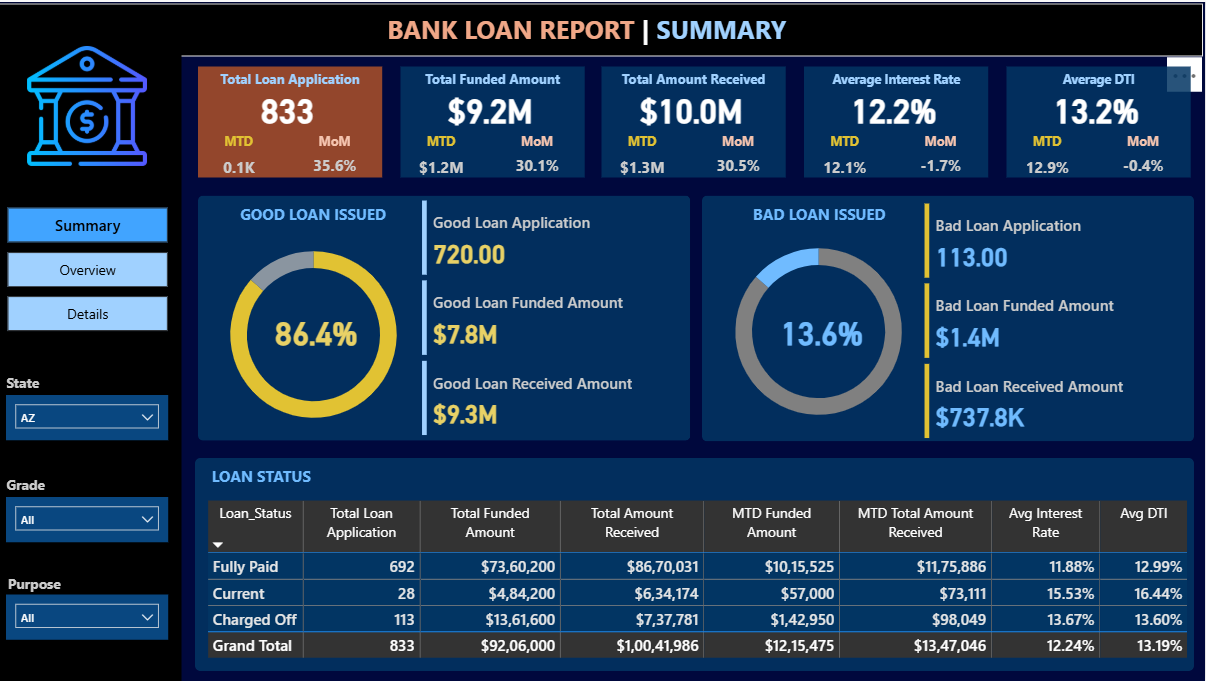

The dashboard page shown, as its layout file describes it:
{"tool":"powerbi","page":{"name":"Summary","canvas":[1280,720],"ordinal":0},"visuals":[{"type":"shape","box":[0,1.6,1278.9,55.7],"z":0},{"type":"shape","box":[3.2,53.5,192.5,666.5],"z":1000},{"type":"textbox","box":[408.8,4.8,454.9,50.9],"z":2000},{"type":"group","id":"g1","title":"Group 1","box":[210,66.2,198.8,130.4],"z":3000},{"type":"shape","box":[213.2,67.8,195.6,117.7],"z":3000,"group":"g1"},{"type":"shape","box":[427.9,67.8,195.6,117.7],"z":3000,"group":"g2"},{"type":"shape","box":[641,67.8,195.6,117.7],"z":3000,"group":"g3"},{"type":"shape","box":[855.8,67.8,195.6,117.7],"z":3000,"group":"g4"},{"type":"shape","box":[1070.5,67.8,195.6,117.7],"z":3000,"group":"g5"},{"type":"group","id":"g2","title":"Group 1","box":[424.7,66.2,197.2,130.4],"z":4000},{"type":"card","fields":{"Values":["bank_loan_data.Total Loan Application"]},"box":[210,74.2,195.6,74.8],"z":4000,"group":"g1"},{"type":"card","fields":{"Values":["bank_loan_data.Total Funded Amount"]},"box":[424.7,74.2,195.6,74.8],"z":4000,"group":"g2"},{"type":"card","fields":{"Values":["bank_loan_data.Total Amount Received"]},"box":[637.8,74.2,195.6,74.8],"z":4000,"group":"g3"},{"type":"card","fields":{"Values":["bank_loan_data.Avg Interest Rate"]},"box":[852.6,74.2,195.6,74.8],"z":4000,"group":"g4"},{"type":"card","fields":{"Values":["bank_loan_data.Avg DTI"]},"box":[1067.3,74.2,195.6,74.8],"z":4000,"group":"g5"},{"type":"textbox","box":[213.2,66.2,195.6,35],"z":5000,"group":"g1"},{"type":"textbox","box":[427.9,66.2,195.6,35],"z":5000,"group":"g2"},{"type":"textbox","box":[641,66.2,195.6,35],"z":5000,"group":"g3"},{"type":"textbox","box":[855.8,66.2,195.6,35],"z":5000,"group":"g4"},{"type":"textbox","box":[1070.5,66.2,195.6,35],"z":5000,"group":"g5"},{"type":"shape","box":[213.1,205.2,522,260],"z":5000},{"type":"card","title":"MTD","fields":{"Values":["bank_loan_data.MTD Loan Application"]},"box":[218,137.8,76.3,58.9],"z":6000,"group":"g1"},{"type":"card","title":"MTD","fields":{"Values":["bank_loan_data.MTD Funded Amount"]},"box":[432.7,137.8,76.3,58.9],"z":6000,"group":"g2"},{"type":"card","title":"MTD","fields":{"Values":["bank_loan_data.MTD Total Amount Recieved"]},"box":[645.8,137.8,76.3,58.9],"z":6000,"group":"g3"},{"type":"card","title":"MTD","fields":{"Values":["bank_loan_data.MTD Avg Int Rate"]},"box":[860.6,137.8,76.3,58.9],"z":6000,"group":"g4"},{"type":"card","title":"MTD","fields":{"Values":["bank_loan_data.MTD Avg DTI"]},"box":[1075.3,137.8,76.3,58.9],"z":6000,"group":"g5"},{"type":"card","fields":{"Values":["bank_loan_data.Good Loan"]},"box":[277.1,312,122.8,74.7],"z":6000},{"type":"card","title":"MoM","fields":{"Values":["bank_loan_data.MoM Loan Application"]},"box":[319.8,137.8,76.3,55.7],"z":7000,"group":"g1"},{"type":"card","title":"MoM","fields":{"Values":["bank_loan_data.MoM Total Funded Amount"]},"box":[534.5,137.8,76.3,55.7],"z":7000,"group":"g2"},{"type":"card","title":"MoM","fields":{"Values":["bank_loan_data.MoM Total Amount Recieved"]},"box":[747.6,137.8,76.3,55.7],"z":7000,"group":"g3"},{"type":"card","title":"MoM","fields":{"Values":["bank_loan_data.MoM Avg Int Rate"]},"box":[962.4,137.8,76.3,55.7],"z":7000,"group":"g4"},{"type":"card","title":"MoM","fields":{"Values":["bank_loan_data.MoM Avg DTI"]},"box":[1177.1,137.8,76.3,55.7],"z":7000,"group":"g5"},{"type":"textbox","box":[240,208.6,190,34.3],"z":7000},{"type":"group","id":"g3","title":"Group 1","box":[637.8,66.2,198.8,130.4],"z":8000},{"type":"group","id":"g4","title":"Group 1","box":[852.6,66.2,198.8,130.4],"z":9000},{"type":"group","id":"g5","title":"Group 1","box":[1067.3,66.2,197.2,130.4],"z":10000},{"type":"donutChart","fields":{"Category":["bank_loan_data.Good vs Bad Loan"],"Y":["bank_loan_data.Total Loan Application"]},"box":[210.8,237.3,250.6,230.7],"z":11000},{"type":"shape","box":[747.6,205.2,521.7,260.9],"z":12000},{"type":"cardVisual","fields":{"Data":["bank_loan_data.Good Loan Application","bank_loan_data.Good Loan Funded Amount","bank_loan_data.Good Loan Received Amount"]},"box":[444.7,205.8,290.4,260.5],"z":13000},{"type":"donutChart","fields":{"Category":["bank_loan_data.Good vs Bad Loan"],"Y":["bank_loan_data.Total Loan Application"]},"box":[746,233.8,249.7,230.6],"z":14000},{"type":"card","fields":{"Values":["bank_loan_data.Bad Loan %"]},"box":[813.1,312,122.8,74.7],"z":15000},{"type":"textbox","box":[777.1,208.6,188.6,34.3],"z":16000},{"type":"cardVisual","fields":{"Data":["bank_loan_data.Bad Loan Application","bank_loan_data.Bad Loan Funded Amount","bank_loan_data.Bad Loan Received Amount"]},"box":[978.2,208.4,278.4,260.9],"z":17000},{"type":"shape","box":[210,483.5,1059.3,225.9],"z":18000},{"type":"tableEx","fields":{"Values":["bank_loan_data.loan_status","bank_loan_data.Total Loan Application","bank_loan_data.Total Funded Amount","bank_loan_data.Total Amount Received","bank_loan_data.MTD Funded Amount","bank_loan_data.MTD Total Amount Received","bank_loan_data.Avg Interest Rate","bank_loan_data.Avg DTI"]},"box":[217.9,523.3,1049.8,181.3],"z":19000},{"type":"textbox","box":[222.7,486.7,190.9,35],"z":20000},{"type":"slicer","fields":{"Values":["bank_loan_data.address_state"]},"box":[9.5,416.7,171.8,47.7],"z":21000},{"type":"textbox","box":[4.8,388.1,60.4,31.8],"z":22000},{"type":"slicer","fields":{"Values":["bank_loan_data.grade"]},"box":[9.5,524.9,171.8,47.7],"z":23000},{"type":"textbox","box":[4.8,496.3,60.4,31.8],"z":24000},{"type":"slicer","fields":{"Values":["bank_loan_data.purpose"]},"box":[9.5,628.3,171.8,47.7],"z":25000},{"type":"textbox","box":[6.4,601.3,85.9,31.8],"z":26000},{"type":"image","box":[17.5,30.2,155.9,160.7],"z":27000},{"type":"pageNavigator","box":[11.1,217.9,170.2,132],"z":28000}]}

Visuals, with their boxes in screenshot pixels (x1, y1, x2, y2), scaled from the page's 1280x720 canvas onto the 1206x681 screenshot:
shape: <box>0,2,1205,54</box>
shape: <box>3,51,184,680</box>
textbox: <box>385,5,814,53</box>
"Group 1" group: <box>198,63,385,186</box>
shape: <box>201,64,385,175</box>
shape: <box>403,64,587,175</box>
shape: <box>604,64,788,175</box>
shape: <box>806,64,991,175</box>
shape: <box>1009,64,1193,175</box>
"Group 1" group: <box>400,63,586,186</box>
card - bank_loan_data.Total Loan Application: <box>198,70,382,141</box>
card - bank_loan_data.Total Funded Amount: <box>400,70,584,141</box>
card - bank_loan_data.Total Amount Received: <box>601,70,785,141</box>
card - bank_loan_data.Avg Interest Rate: <box>803,70,988,141</box>
card - bank_loan_data.Avg DTI: <box>1006,70,1190,141</box>
textbox: <box>201,63,385,96</box>
textbox: <box>403,63,587,96</box>
textbox: <box>604,63,788,96</box>
textbox: <box>806,63,991,96</box>
textbox: <box>1009,63,1193,96</box>
shape: <box>201,194,693,440</box>
"MTD" card: <box>205,130,277,186</box>
"MTD" card: <box>408,130,480,186</box>
"MTD" card: <box>608,130,680,186</box>
"MTD" card: <box>811,130,883,186</box>
"MTD" card: <box>1013,130,1085,186</box>
card - bank_loan_data.Good Loan: <box>261,295,377,366</box>
"MoM" card: <box>301,130,373,183</box>
"MoM" card: <box>504,130,575,183</box>
"MoM" card: <box>704,130,776,183</box>
"MoM" card: <box>907,130,979,183</box>
"MoM" card: <box>1109,130,1181,183</box>
textbox: <box>226,197,405,230</box>
"Group 1" group: <box>601,63,788,186</box>
"Group 1" group: <box>803,63,991,186</box>
"Group 1" group: <box>1006,63,1191,186</box>
donutChart - bank_loan_data.Good vs Bad Loan x bank_loan_data.Total Loan Application: <box>199,224,435,443</box>
shape: <box>704,194,1196,441</box>
cardVisual - bank_loan_data.Good Loan Application x bank_loan_data.Good Loan Funded Amount: <box>419,195,693,441</box>
donutChart - bank_loan_data.Good vs Bad Loan x bank_loan_data.Total Loan Application: <box>703,221,938,439</box>
card - bank_loan_data.Bad Loan %: <box>766,295,882,366</box>
textbox: <box>732,197,910,230</box>
cardVisual - bank_loan_data.Bad Loan Application x bank_loan_data.Bad Loan Funded Amount: <box>922,197,1184,444</box>
shape: <box>198,457,1196,671</box>
tableEx - bank_loan_data.loan_status x bank_loan_data.Total Loan Application: <box>205,495,1194,666</box>
textbox: <box>210,460,390,493</box>
slicer - bank_loan_data.address_state: <box>9,394,171,439</box>
textbox: <box>5,367,61,397</box>
slicer - bank_loan_data.grade: <box>9,496,171,542</box>
textbox: <box>5,469,61,499</box>
slicer - bank_loan_data.purpose: <box>9,594,171,639</box>
textbox: <box>6,569,87,599</box>
image: <box>16,29,163,181</box>
pageNavigator: <box>10,206,171,331</box>
